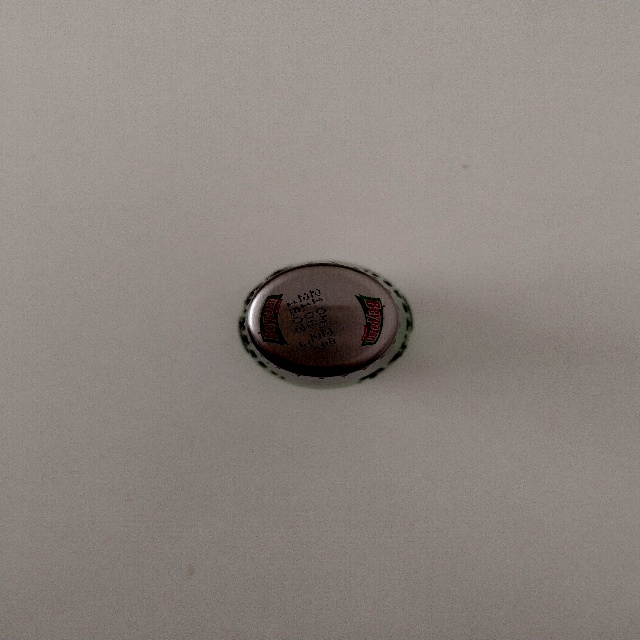beypazari_maden_suyu: (239, 262, 410, 386)
